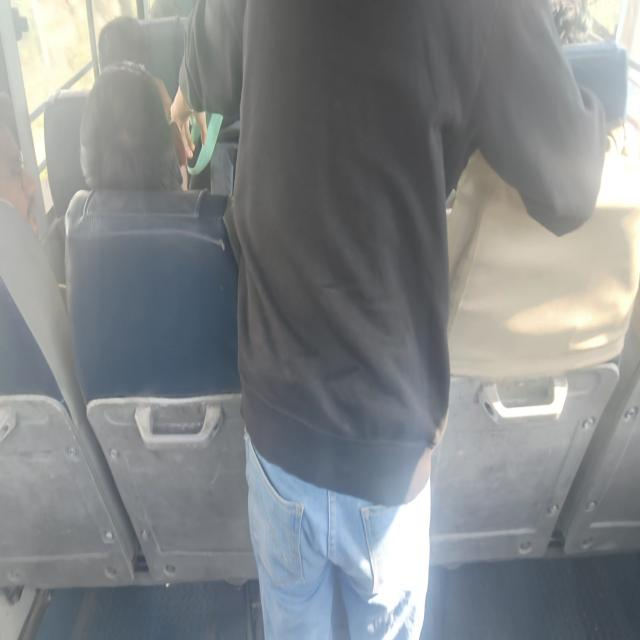person: (230, 0, 540, 630), (85, 86, 187, 198), (83, 18, 155, 90), (0, 125, 42, 238), (535, 0, 599, 54)
